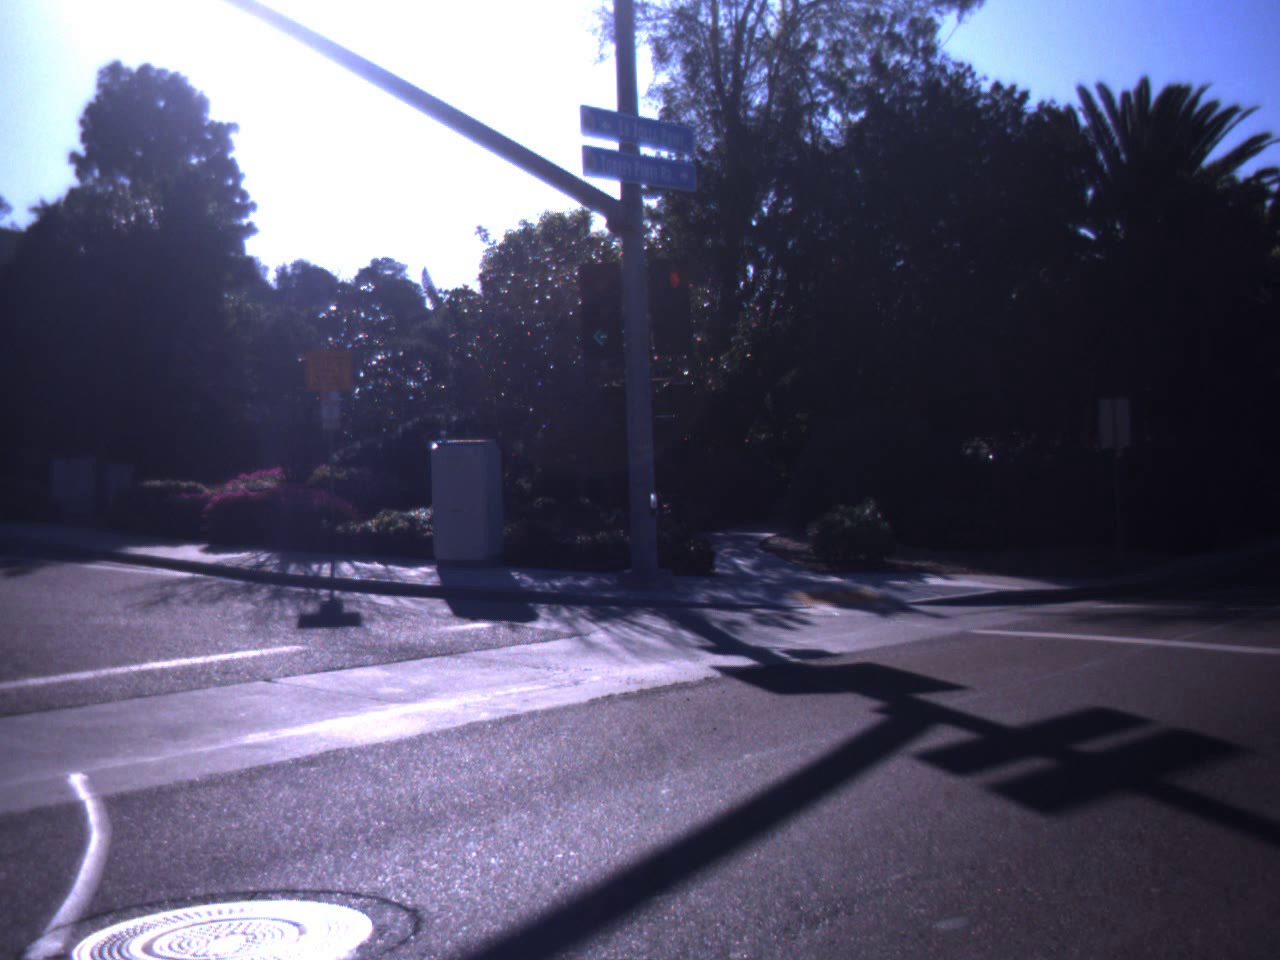go: (570, 280, 630, 350)
